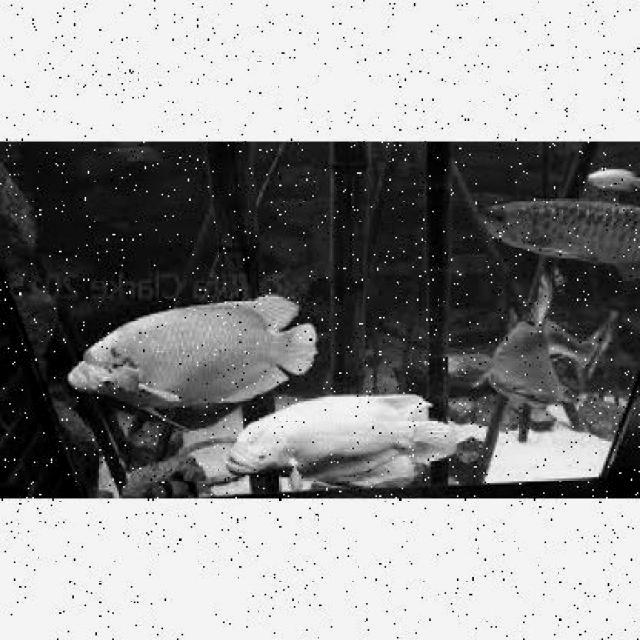gurame: (68, 294, 314, 404), (227, 392, 458, 488)
